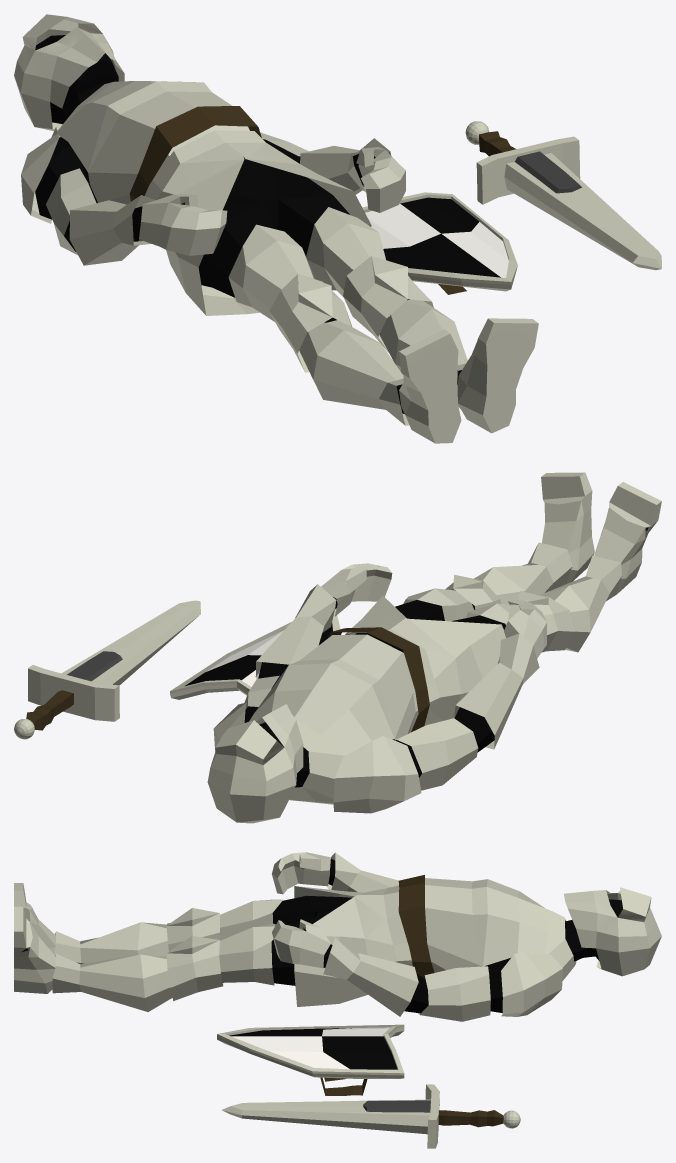
File: soldier.fbx
3 views of the same model, one above another, from view 1: azimuth 30°, elevation 25°; view 2: azimuth 150°, elevation 25°; view 3: azimuth 270°, elevation 25° (orthographic). The views are drawn at different scales.
Visible parts, largest first — view 1: body.001, Sword, shield; view 2: body.001, Sword, shield; view 3: body.001, shield, Sword.
Boxes of the visible parts, box(x1,y1,x2,y2) form: body.001: box(14, 14, 538, 443); Sword: box(465, 121, 661, 270); shield: box(362, 192, 517, 294); body.001: box(207, 472, 661, 823); Sword: box(14, 600, 200, 739); shield: box(170, 615, 341, 699); body.001: box(14, 852, 661, 1021); shield: box(217, 1024, 404, 1095); Sword: box(222, 1084, 520, 1148).
Size of the model in its own units: 499 by 169 by 716.
